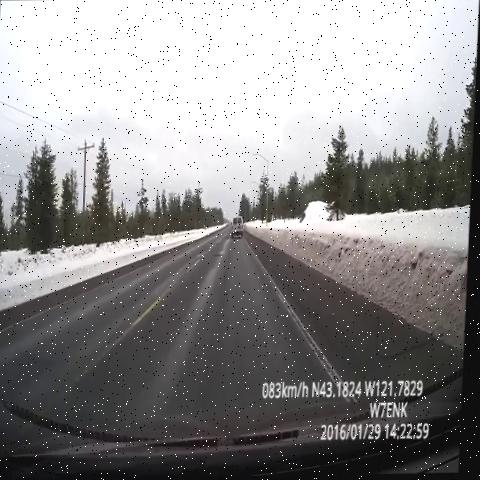pothole: (212, 247, 229, 266), (225, 231, 236, 245)
